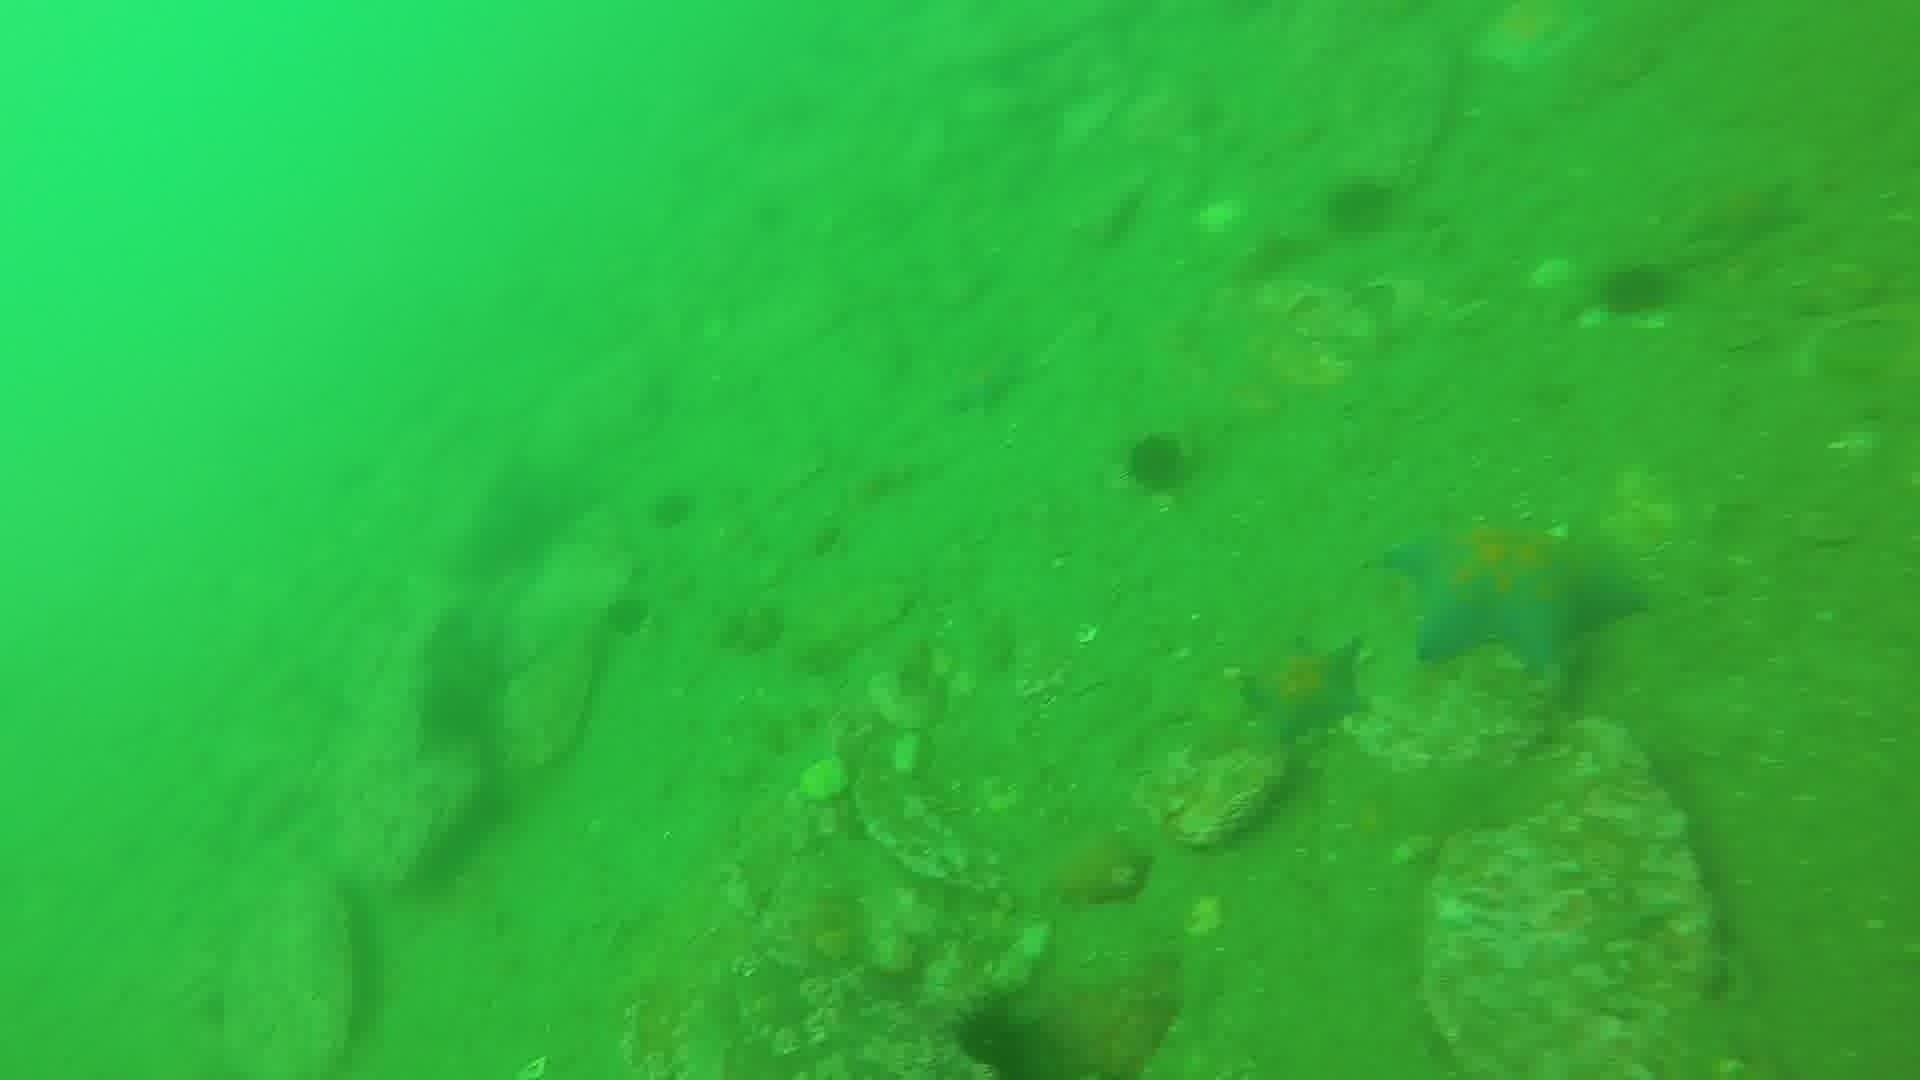echinus: (947, 997, 1052, 1077), (1117, 429, 1201, 500), (1320, 171, 1402, 243), (1594, 258, 1677, 324), (597, 588, 655, 642), (645, 484, 700, 533)
scallop: (865, 650, 957, 736)
starfish: (1381, 516, 1650, 680), (1238, 633, 1373, 746), (1687, 171, 1807, 257), (1466, 1, 1600, 78), (939, 340, 1036, 418)
